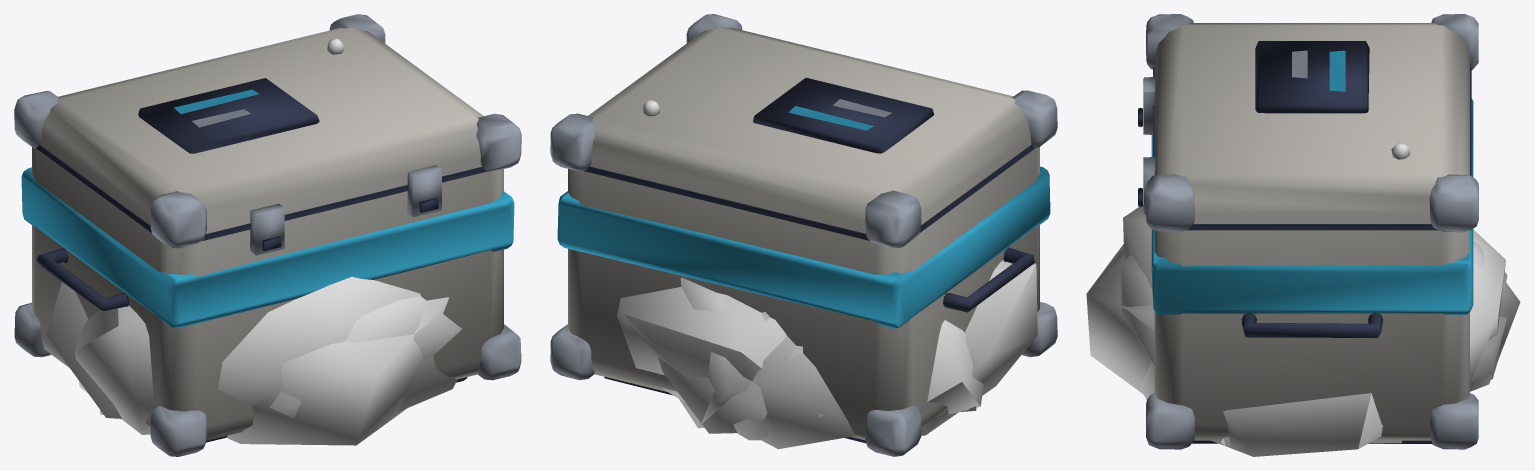
Rendered from props_low.glb.
The picture shows the model from 3 angles, left to right: view 1: azimuth 30°, elevation 25°; view 2: azimuth 150°, elevation 25°; view 3: azimuth 270°, elevation 25°; orthographic projection. The views are drawn at different scales.
Visible parts, largest first — view 1: crate_a, rock_b, rock_d, rock_c, rock_a; view 2: crate_a, rock_b, rock_a, rock_d, rock_c; view 3: crate_a, rock_b, rock_d, rock_c.
Boxes of the visible parts, box(x1,y1,x2,y2) form: crate_a: box(14, 14, 521, 456); rock_b: box(75, 276, 457, 434); rock_d: box(226, 297, 449, 445); rock_c: box(100, 296, 461, 418); rock_a: box(46, 282, 121, 418); crate_a: box(550, 14, 1057, 456); rock_b: box(617, 260, 1037, 440); rock_a: box(753, 312, 983, 449); rock_d: box(658, 345, 802, 433); rock_c: box(679, 277, 976, 428); crate_a: box(1138, 14, 1478, 449); rock_b: box(1123, 204, 1505, 456); rock_d: box(1086, 244, 1506, 393); rock_c: box(1121, 241, 1520, 391).
Size of the model in its own units: 1.52 by 1.01 by 1.38.
